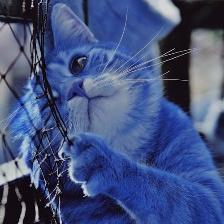kedo: (9, 1, 224, 224)
